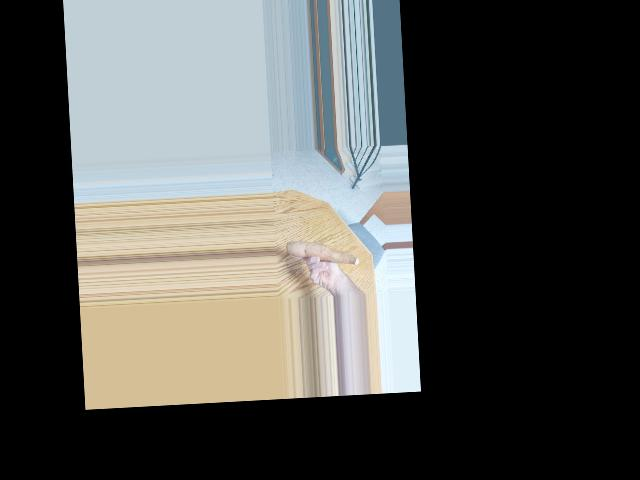sweet_potato: (287, 235, 360, 271)
